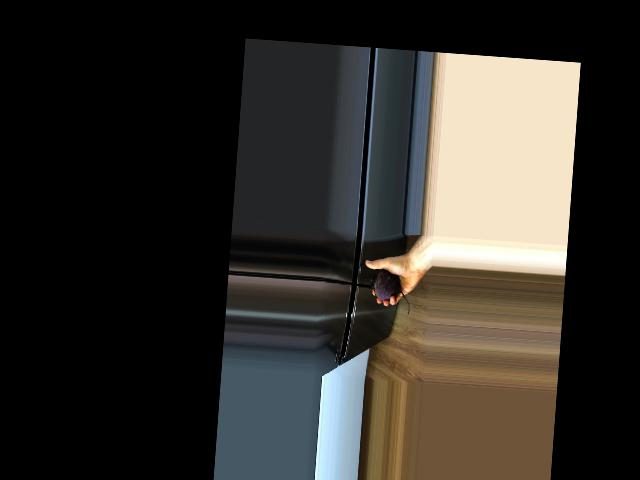beet: (368, 268, 412, 316)
